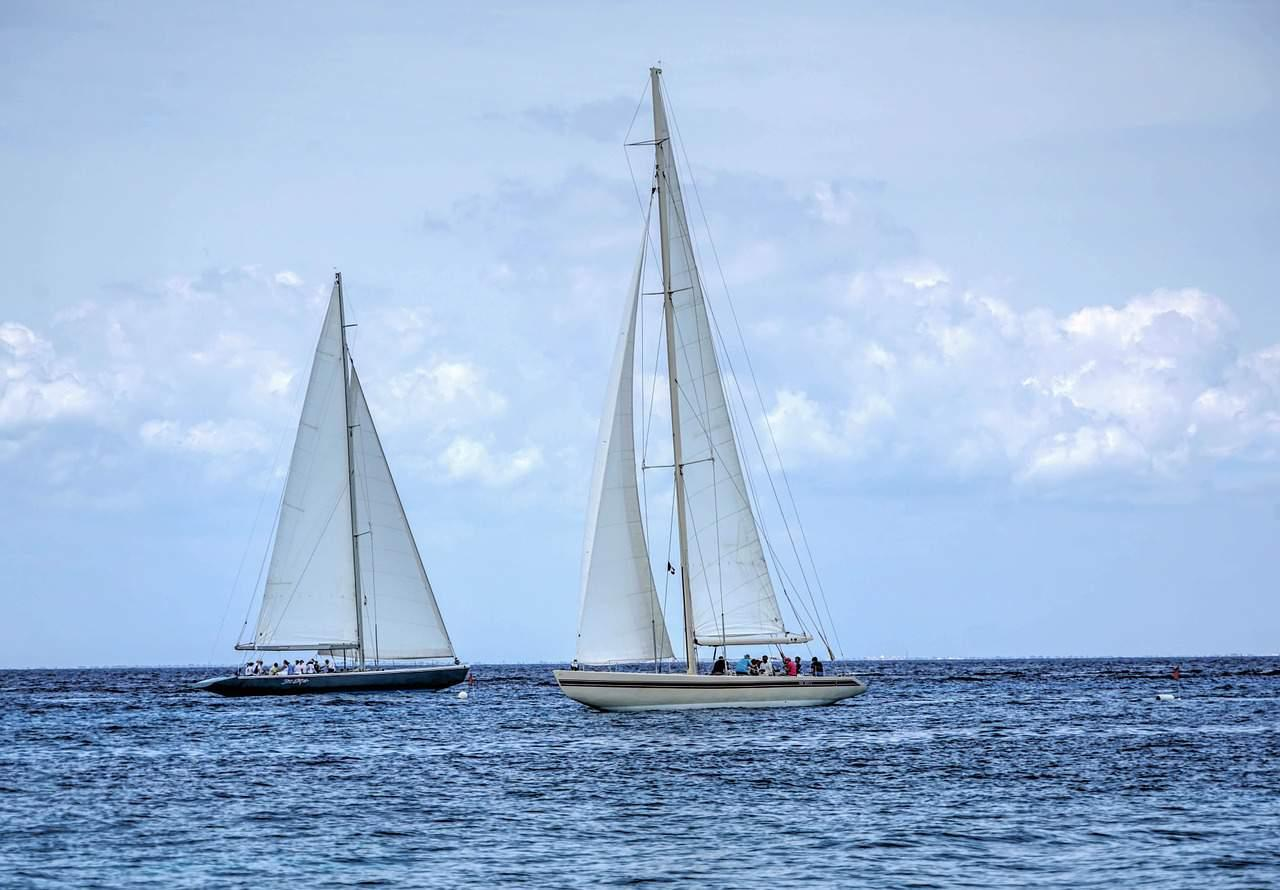Ship: (549, 68, 867, 715), (191, 272, 472, 698)
